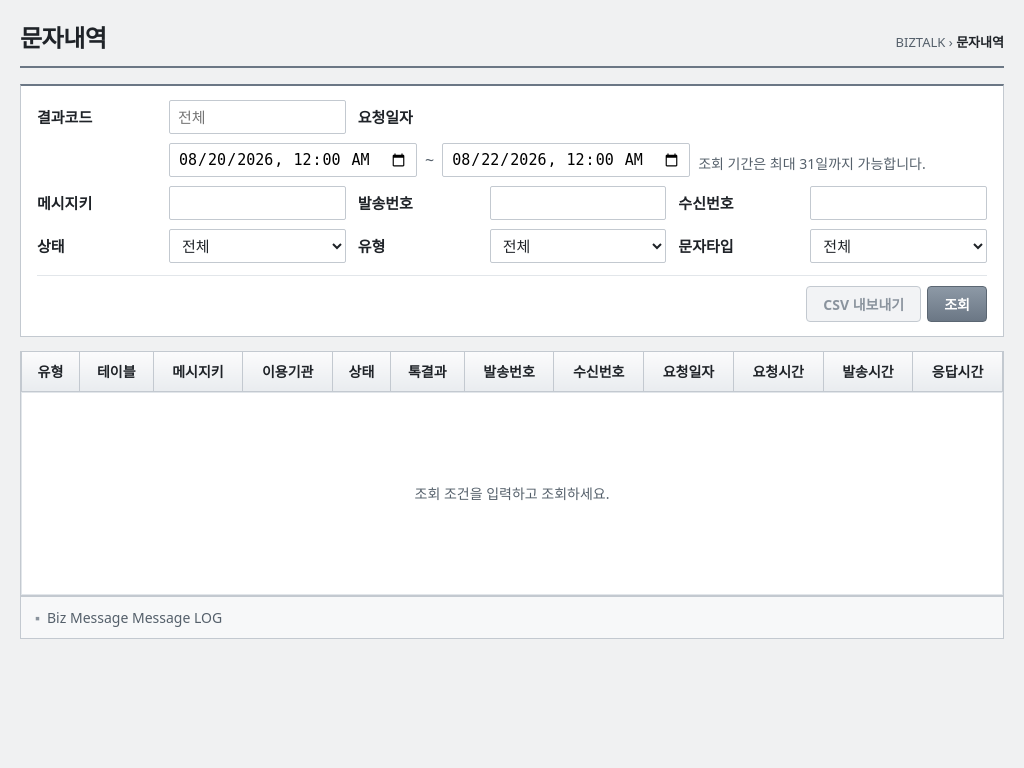
Test case: MessageHistoryPage › 상태 라벨을 표시한다 / renders the status label
Click the button "조회" at [957, 304], box 927,286 -> 987,322
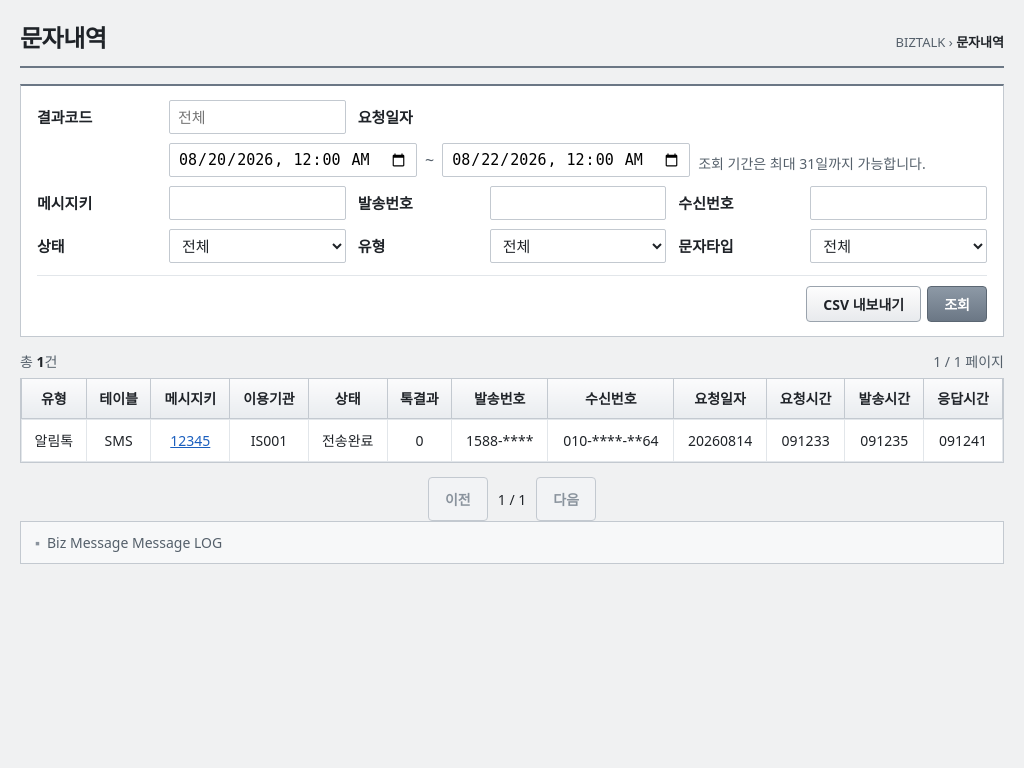
Expected: the table is shown, 21,379 -> 1003,462
Expected: the text "전송완료" is shown, 308,420 -> 387,462
Expected: the text "알림톡" is shown, 22,420 -> 86,462
